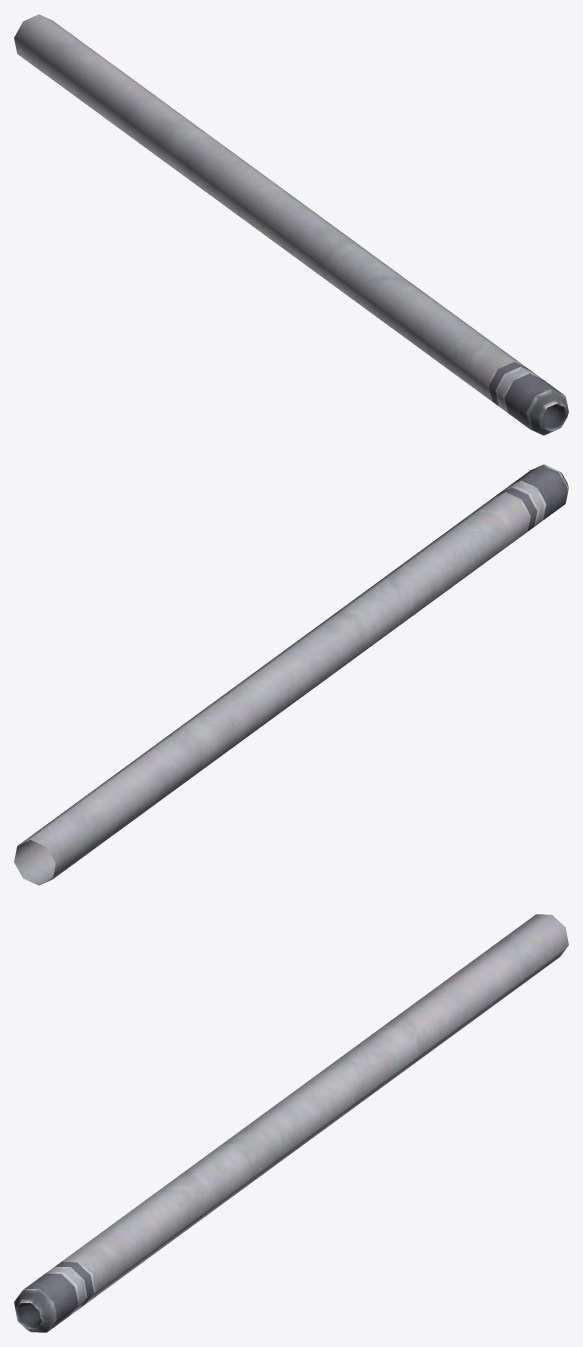
File: spacestation_turret_barrel_s02_l1.fbx
The picture shows the model from 3 angles, top to bottom: view 1: azimuth 30°, elevation 25°; view 2: azimuth 150°, elevation 25°; view 3: azimuth 330°, elevation 25°; orthographic projection.
Visible parts, largest first — view 1: mesh_node; view 2: mesh_node; view 3: mesh_node.
Boxes of the visible parts, left/top/right/bottom form: mesh_node: left=14, top=14, right=568, bottom=435; mesh_node: left=14, top=464, right=568, bottom=885; mesh_node: left=14, top=914, right=568, bottom=1332.
Size of the model in its own units: 0.2938 by 0.2943 by 6.32.
